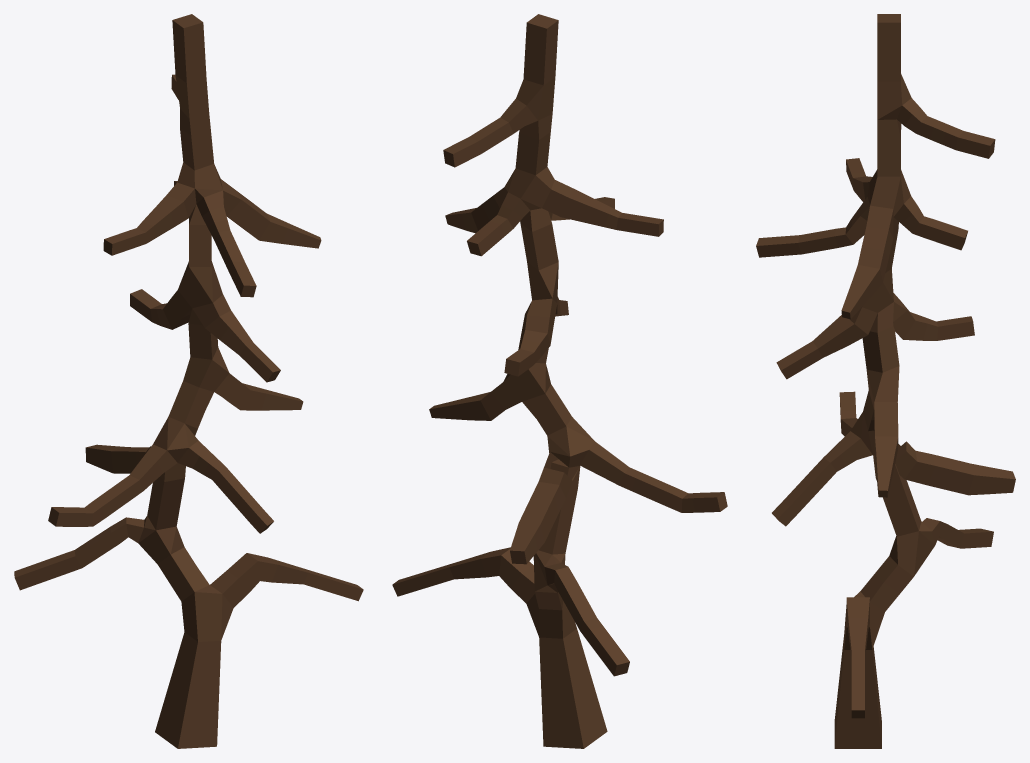
The model's file is Tundra_Tree_Big_Naked.fbx.
The picture shows the model from 3 angles, left to right: view 1: azimuth 30°, elevation 25°; view 2: azimuth 150°, elevation 25°; view 3: azimuth 270°, elevation 25°; orthographic projection. The views are drawn at different scales.
Parts seen in each view (by area): view 1: Cube.005; view 2: Cube.005; view 3: Cube.005.
Boxes of the visible parts, <box> form: Cube.005: <box>14,14,363,748</box>; Cube.005: <box>392,14,727,748</box>; Cube.005: <box>756,14,1015,748</box>.
Size of the model in its own units: 528 by 1137 by 367.
